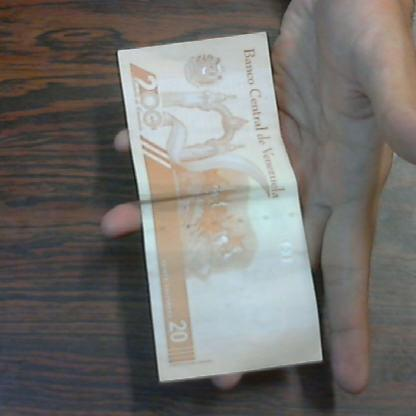twenty-back-vef: (119, 31, 322, 385)
